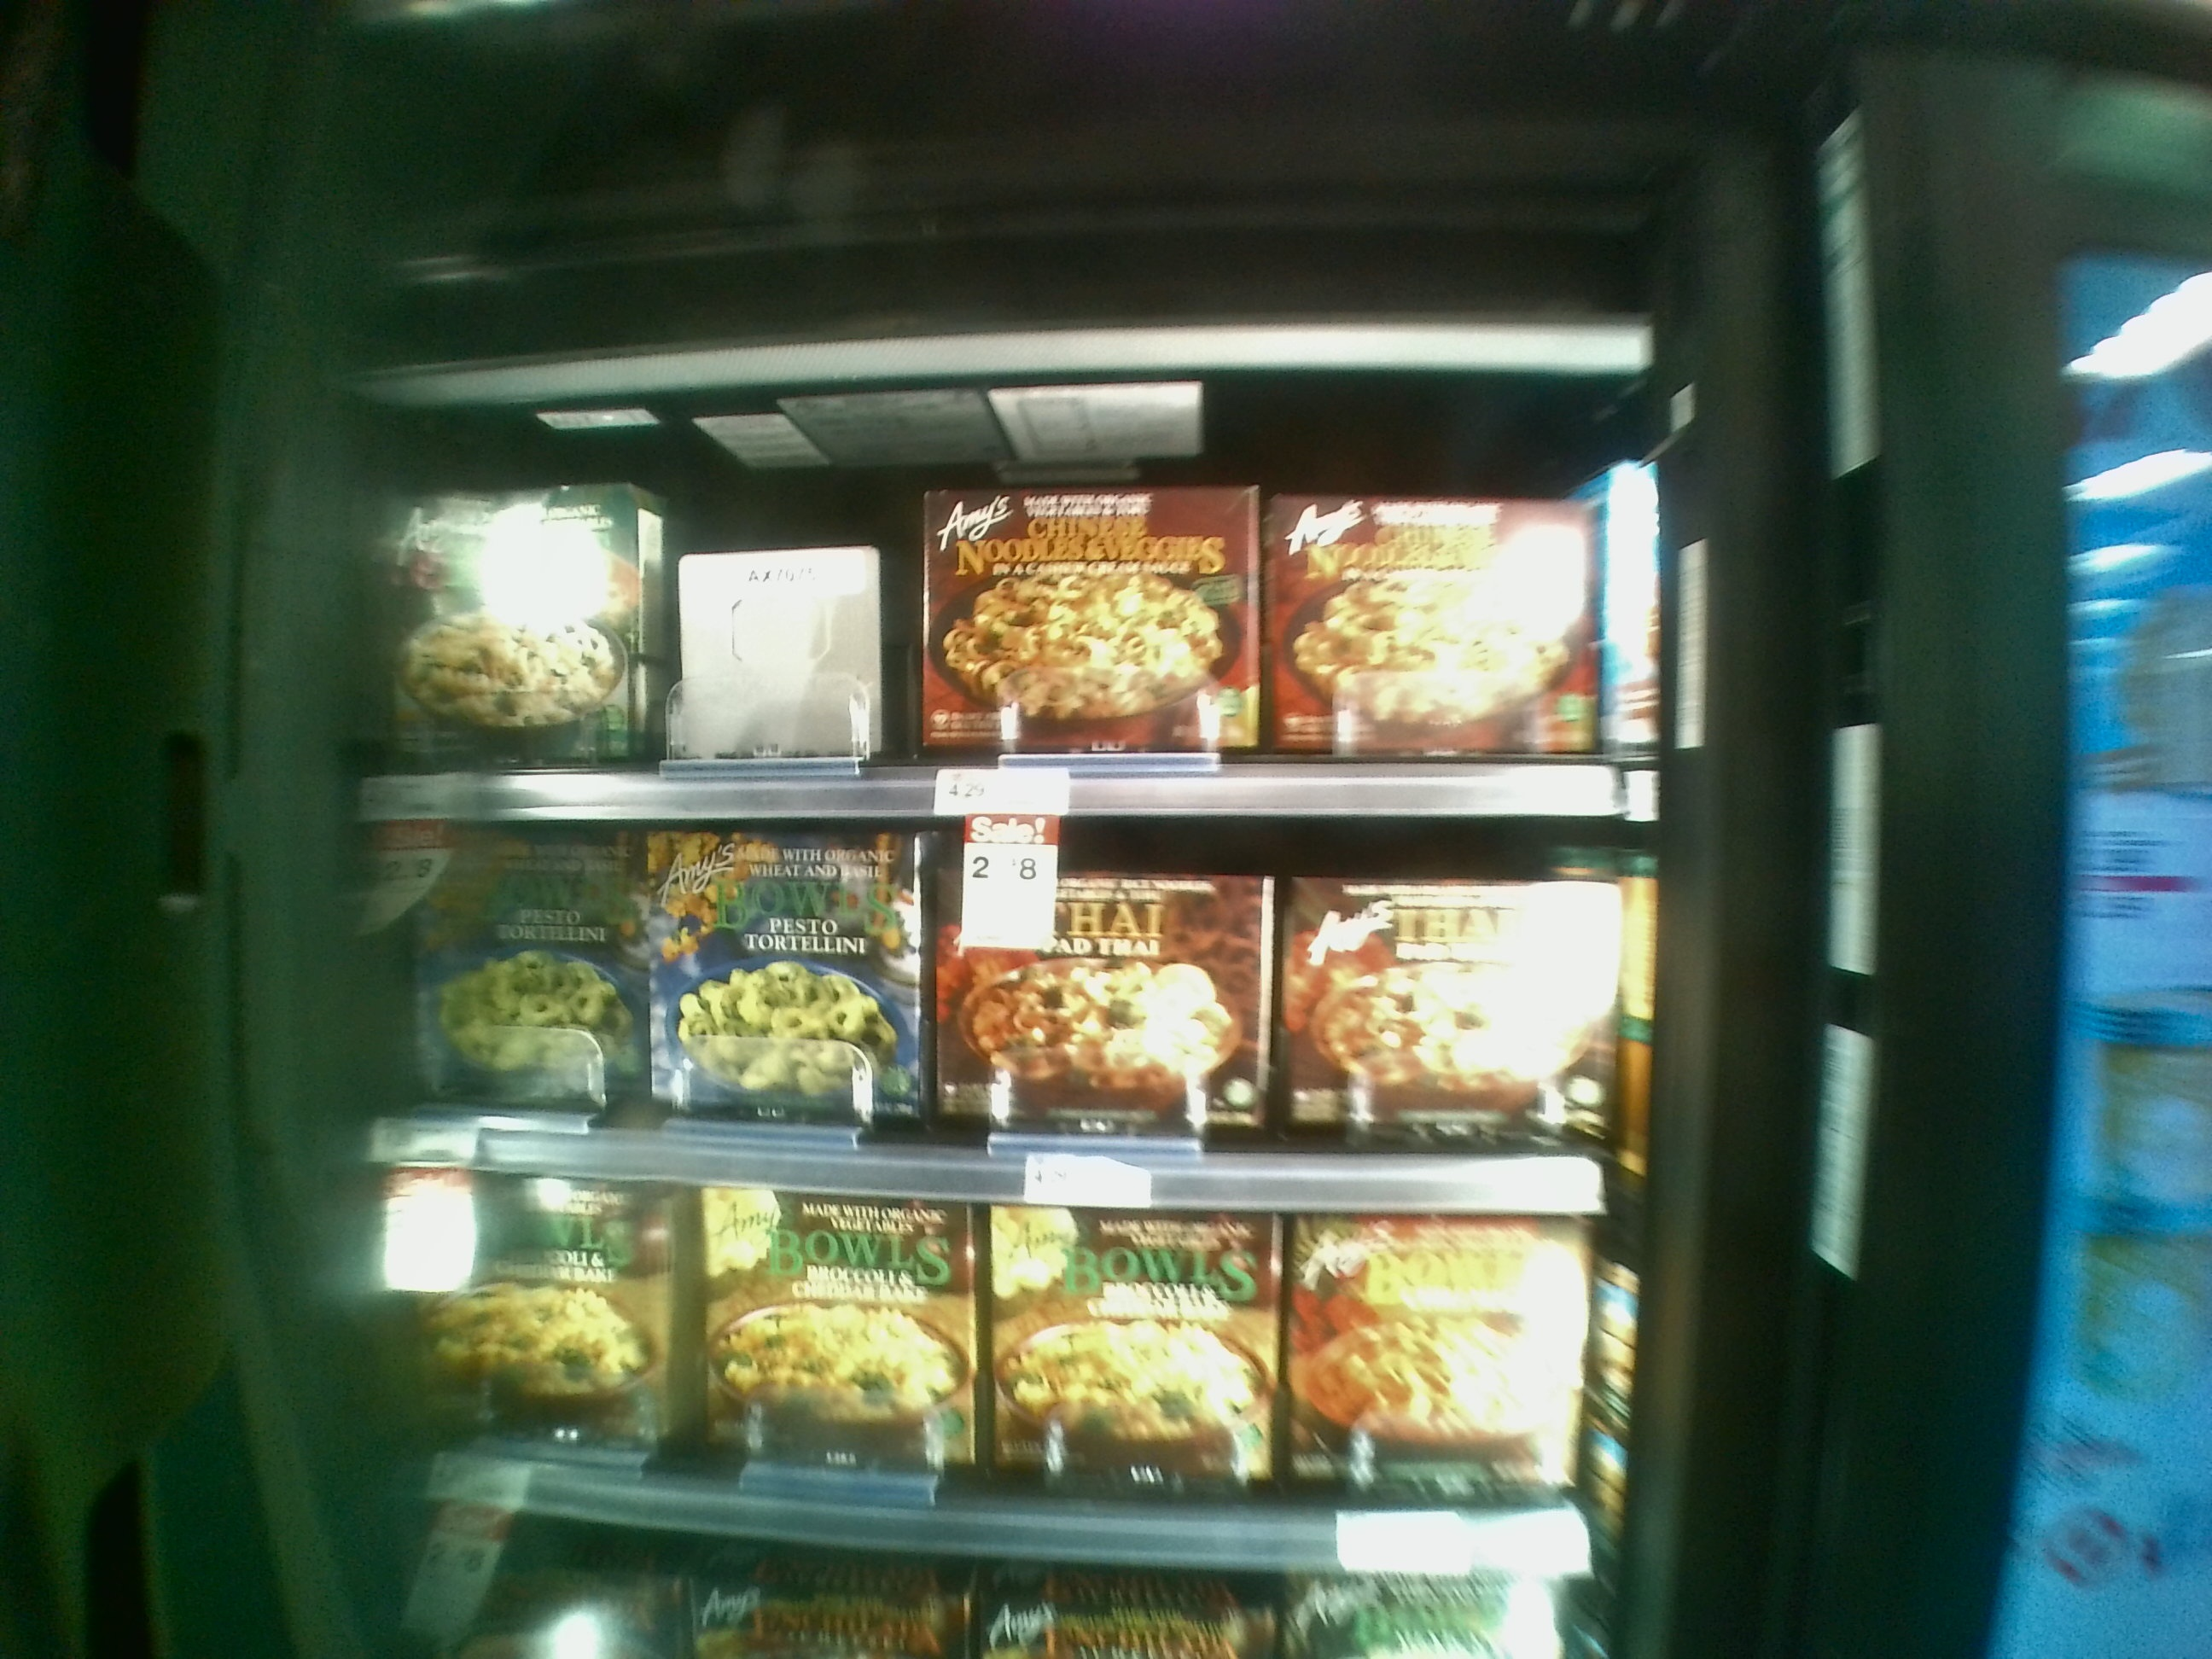shelf: (366, 401, 1637, 829), (364, 824, 1627, 1215), (381, 1190, 1597, 1579)
